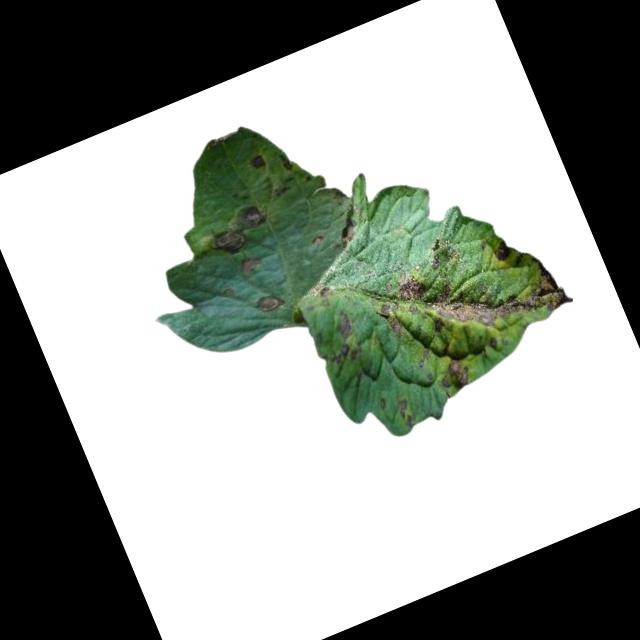Early_blight: (391, 218, 576, 366), (201, 198, 276, 263), (375, 297, 410, 341), (439, 354, 475, 393), (328, 308, 358, 340), (255, 290, 286, 317), (237, 250, 263, 275), (248, 149, 270, 173)
